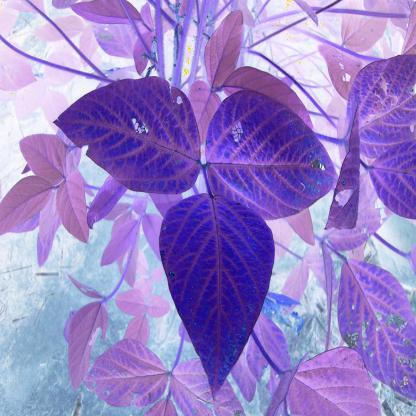Soyabean leaf: (154, 186, 278, 402), (47, 74, 202, 202), (201, 85, 339, 223)
